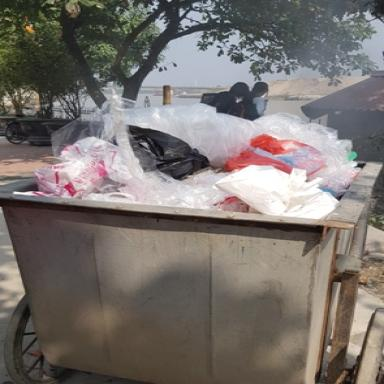plasticbag: (16, 94, 360, 226)
